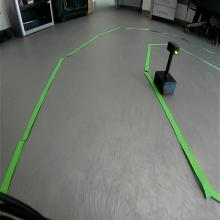green: (167, 41, 181, 56)
